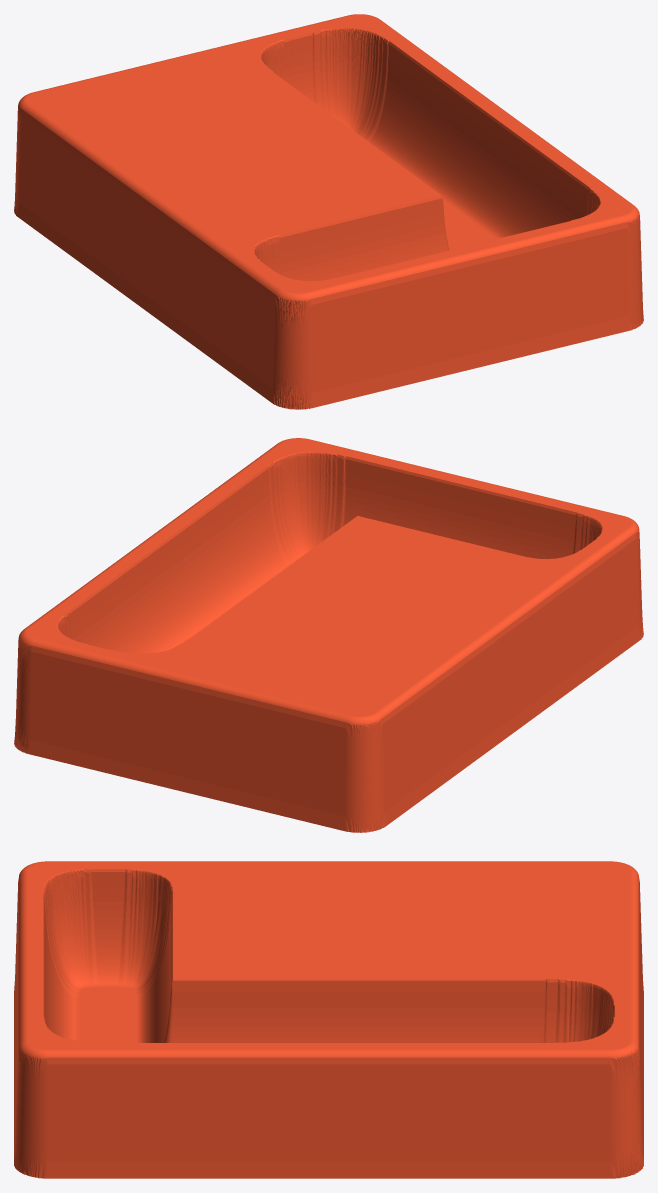
The model's file is mold.glb.
3 renders of one model, top to bottom at view 1: azimuth 30°, elevation 25°; view 2: azimuth 150°, elevation 25°; view 3: azimuth 270°, elevation 25°, orthographic. The views are drawn at different scales.
Parts seen in each view (by area): view 1: geometry_0; view 2: geometry_0; view 3: geometry_0.
Part boxes in pixels (<box>): geometry_0: <box>14,14,643,409</box>; geometry_0: <box>14,438,643,832</box>; geometry_0: <box>14,861,643,1178</box>.
Bounding box in the file's own units: 0.1261 × 0.0365 × 0.1689.
